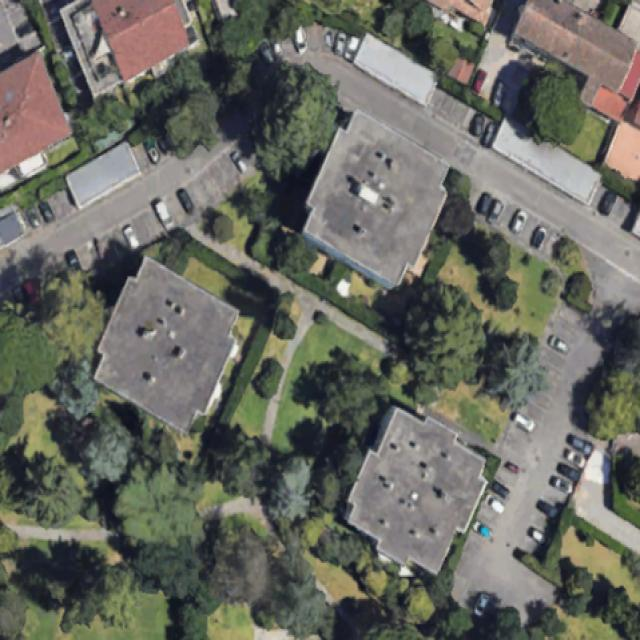immeuble: (281, 107, 467, 293), (76, 255, 260, 437), (326, 396, 503, 581)
